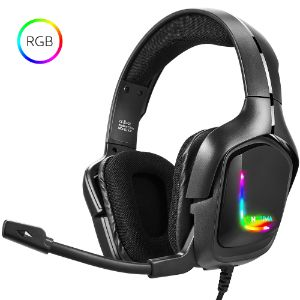headset: (74, 11, 300, 296)
